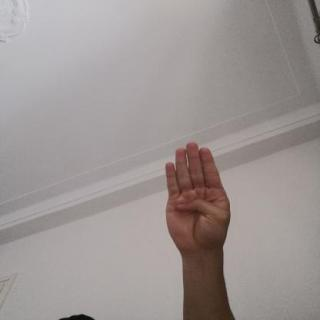KAAF: (151, 134, 242, 263)
